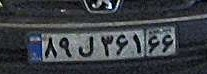character: (76, 34, 96, 59), (58, 34, 76, 60), (97, 32, 114, 59), (114, 32, 130, 57), (43, 34, 58, 60), (129, 32, 144, 56), (160, 32, 174, 54), (147, 34, 160, 56)
